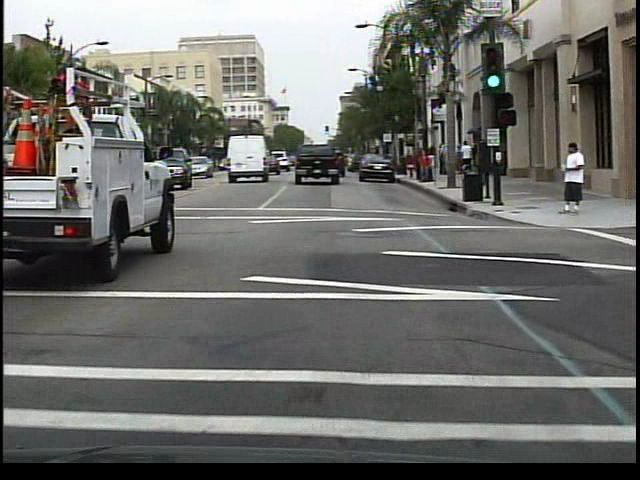person: (557, 140, 591, 216), (414, 145, 434, 184)
